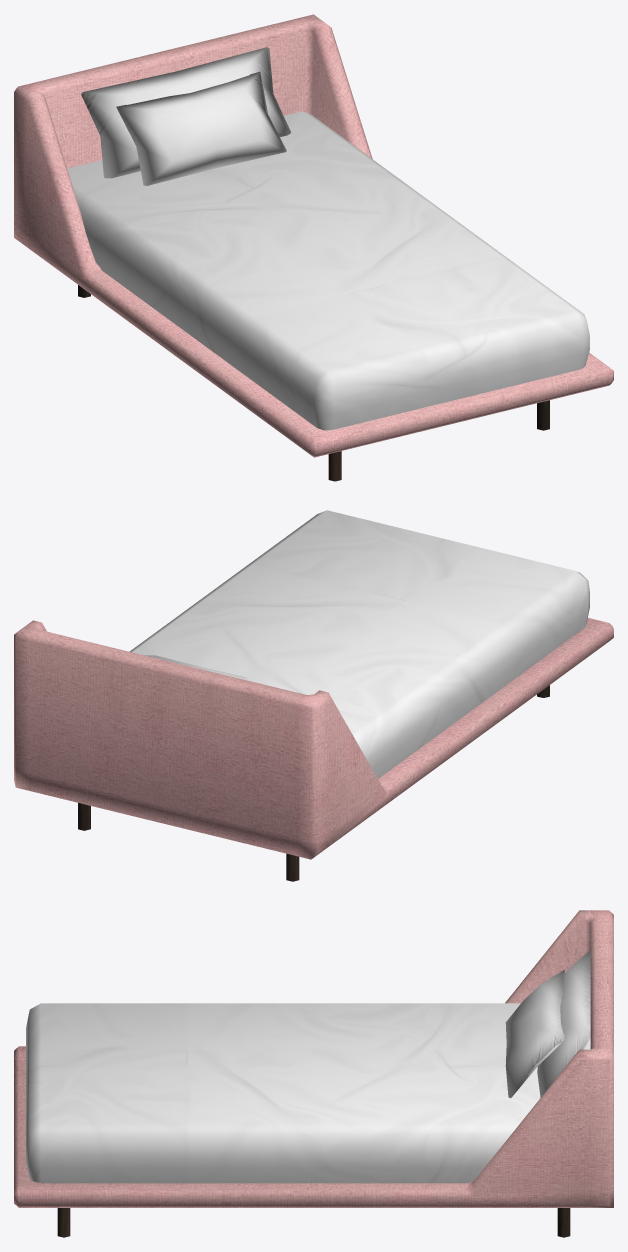
File: obj_bed_3603cf.glb
3 renders of one model, top to bottom at view 1: azimuth 30°, elevation 25°; view 2: azimuth 150°, elevation 25°; view 3: azimuth 270°, elevation 25°, orthographic.
Parts seen in each view (by area): view 1: obj_bed_3603cf; view 2: obj_bed_3603cf; view 3: obj_bed_3603cf.
Part boxes in pixels (x1,y1,x2,y2): obj_bed_3603cf: [14, 14, 613, 481]; obj_bed_3603cf: [14, 510, 613, 881]; obj_bed_3603cf: [14, 910, 613, 1237].
Bounding box in the file's own units: 1.22 × 0.7792 × 2.1.
Materials: 1 (1 with a texture image).
